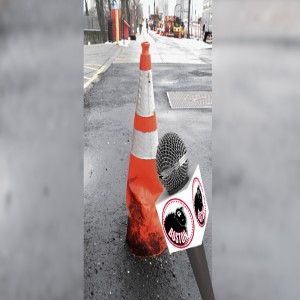traffic cone: (125, 41, 175, 256)
